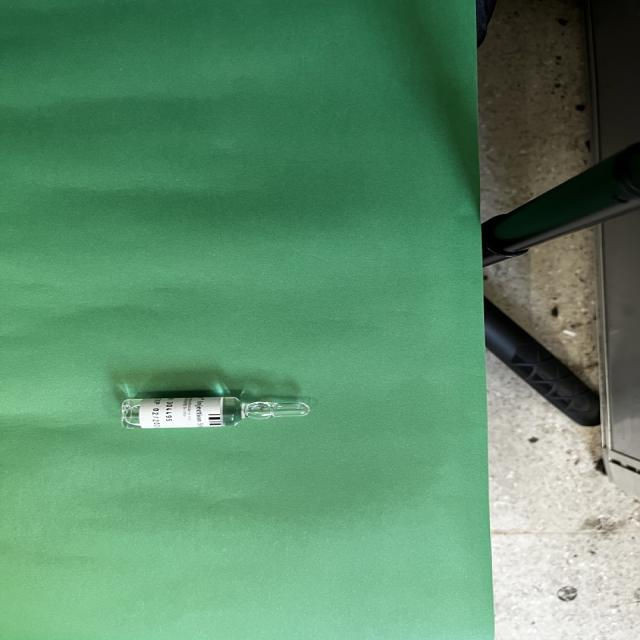Ampoules: (119, 396, 311, 428)
